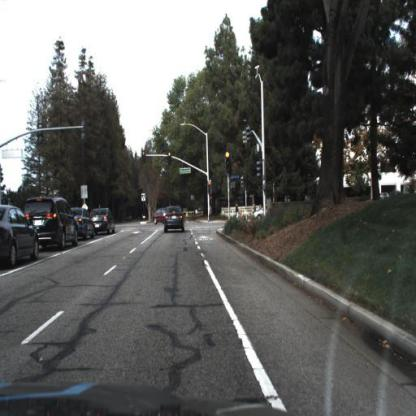car: (1, 204, 42, 266), (37, 195, 78, 251), (163, 204, 185, 234), (77, 208, 96, 241), (98, 208, 116, 233), (152, 207, 171, 225), (254, 204, 270, 222)
pedestrian: (209, 205, 214, 223), (236, 203, 240, 221), (253, 203, 258, 215)
trafficLight-Red: (225, 149, 234, 172), (224, 151, 231, 169), (207, 181, 213, 198), (167, 151, 172, 165), (54, 190, 58, 198)
trafficLight-RedLeft: (142, 149, 147, 164)
